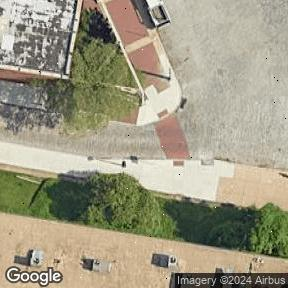vegetation: (71, 10, 138, 129), (87, 171, 182, 239), (252, 204, 288, 256)
